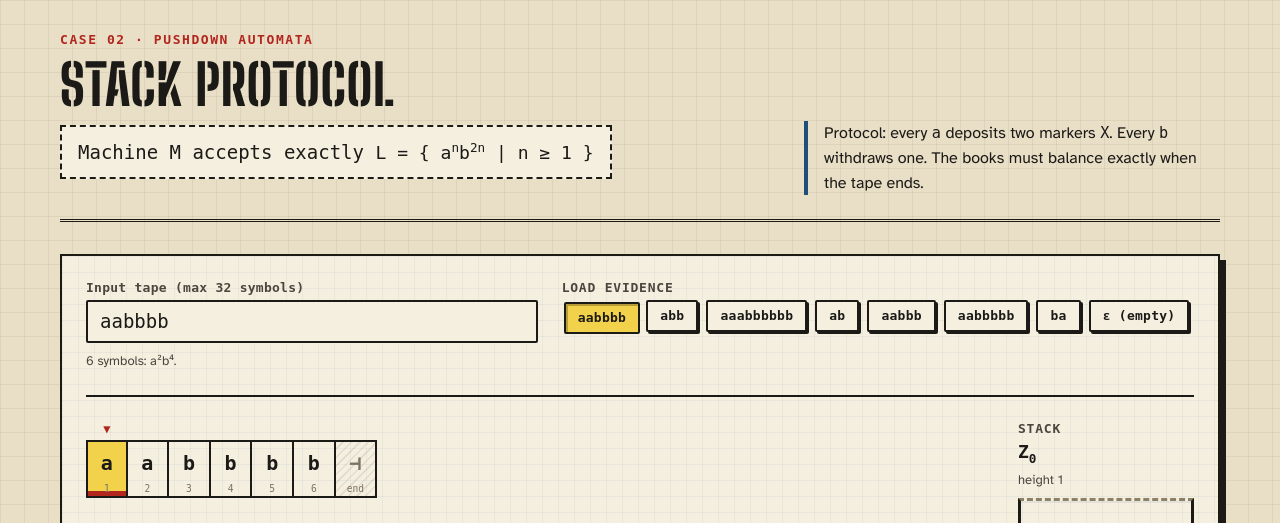
Test: Stack Protocol simulator › rejects ab#b with an explanation
This screenshot has width=1280, height=523.
Replace the text in the field labelled "Input tape (max 32 symbols)" with "ab#b" at (312,321), box [86,300,538,343]
(page scrolled)
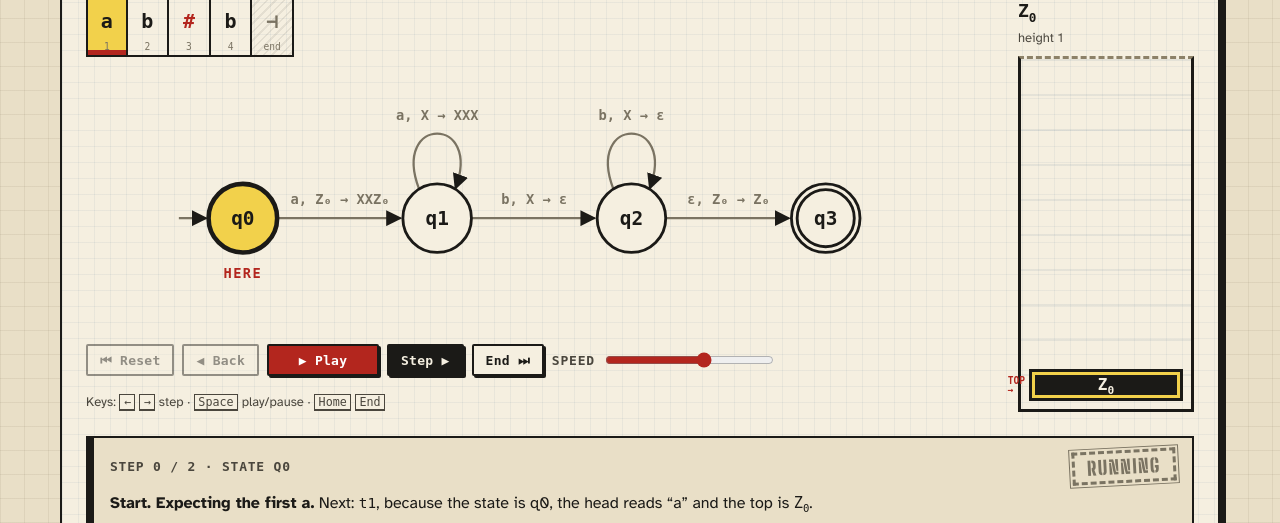
Click the button "End ⏭".
click(508, 360)  # box [472,344,544,376]
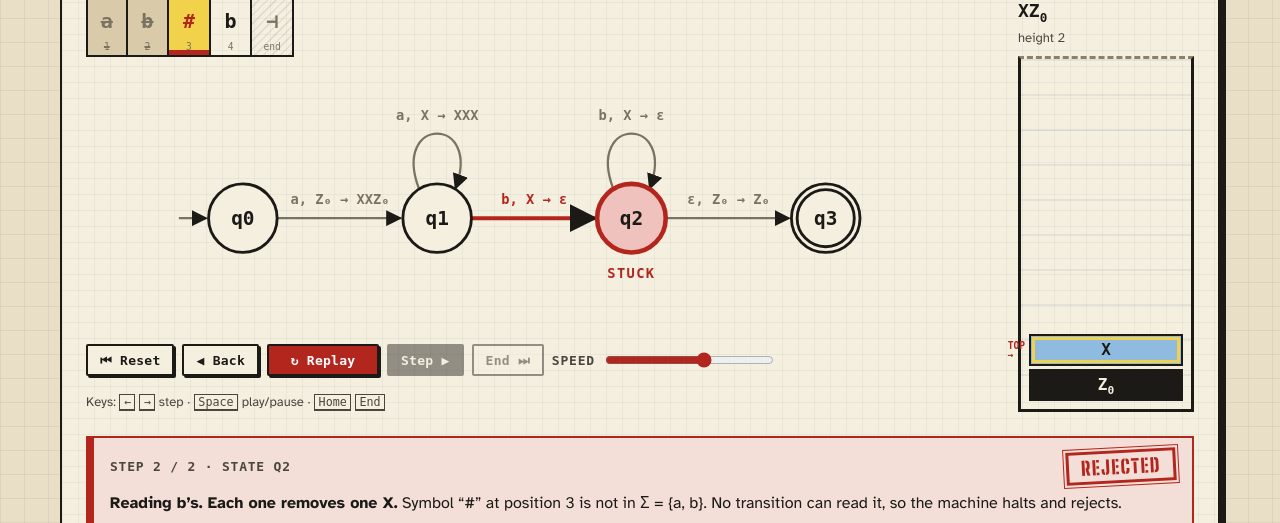
Now the text "rejected" is shown, box [1065,448,1177,486]
Now the message shows "not in Σ", box [402,494,1122,514]
